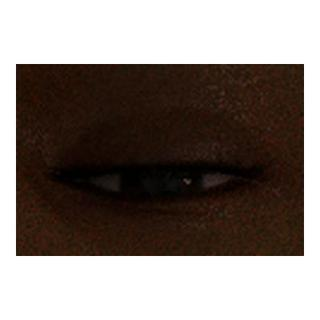pupil: (144, 170, 176, 201)
